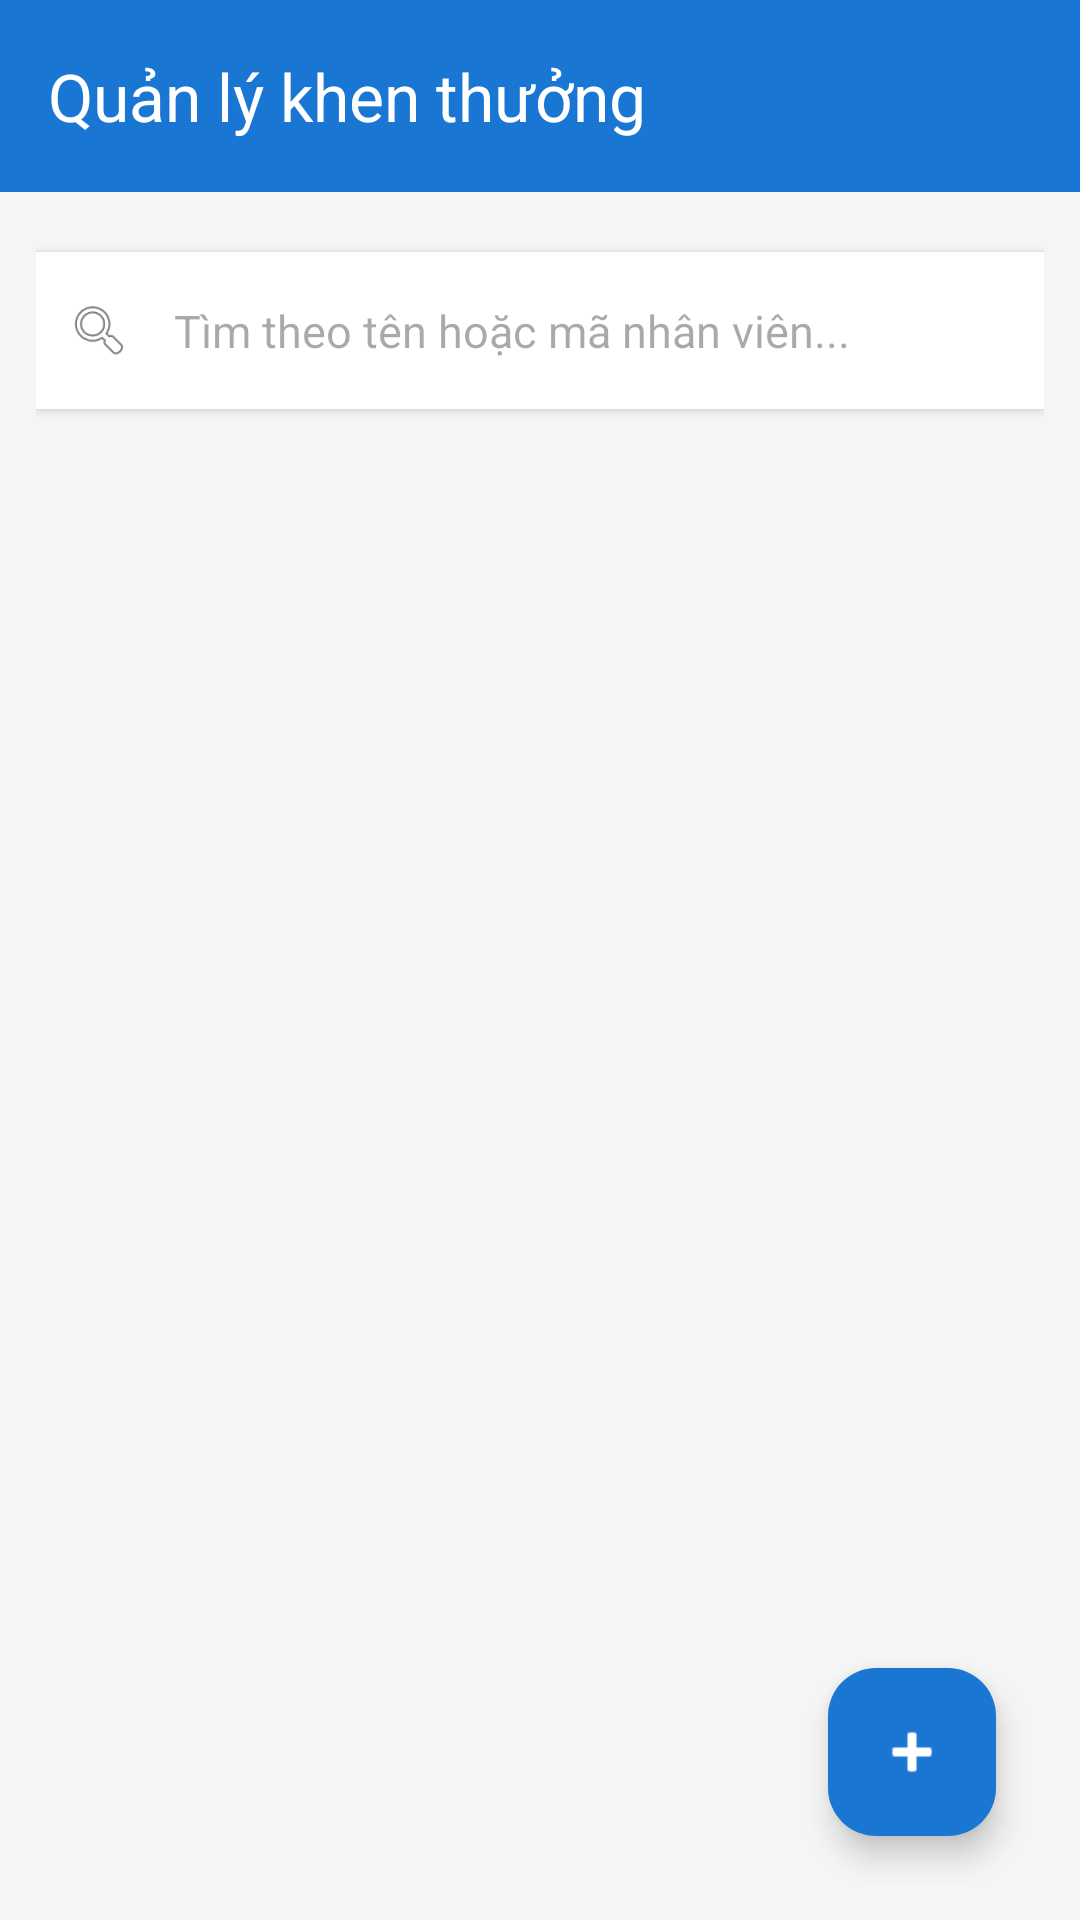

Icon bounding boxes for this 1080 × 1920 phone screenshot, format (x1, y1, x2, y2):
search: (75, 306, 123, 355)
Thêm khen thưởng: (828, 1668, 996, 1836)
